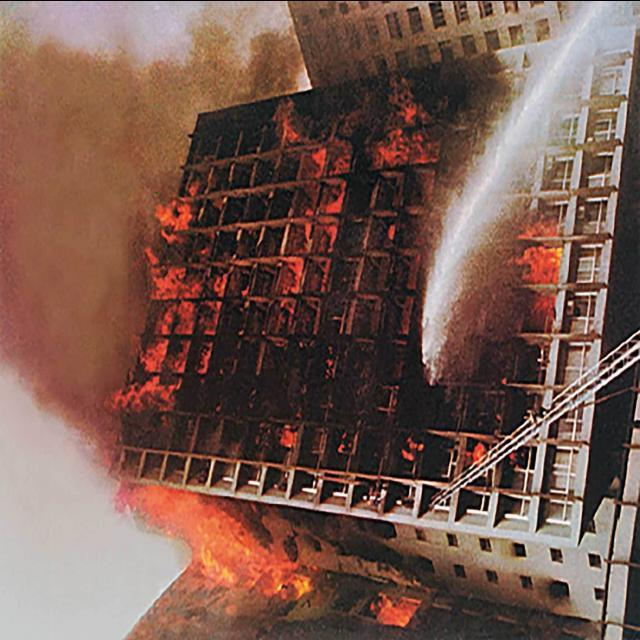Fire: (101, 89, 563, 615)
